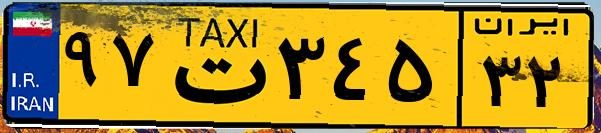2: (525, 38, 570, 115)
3: (270, 28, 330, 110), (475, 38, 525, 113)
4: (330, 28, 385, 110)
5: (385, 28, 445, 110)
7: (110, 28, 158, 98)
9: (57, 26, 110, 100)
ت: (158, 12, 270, 120)
